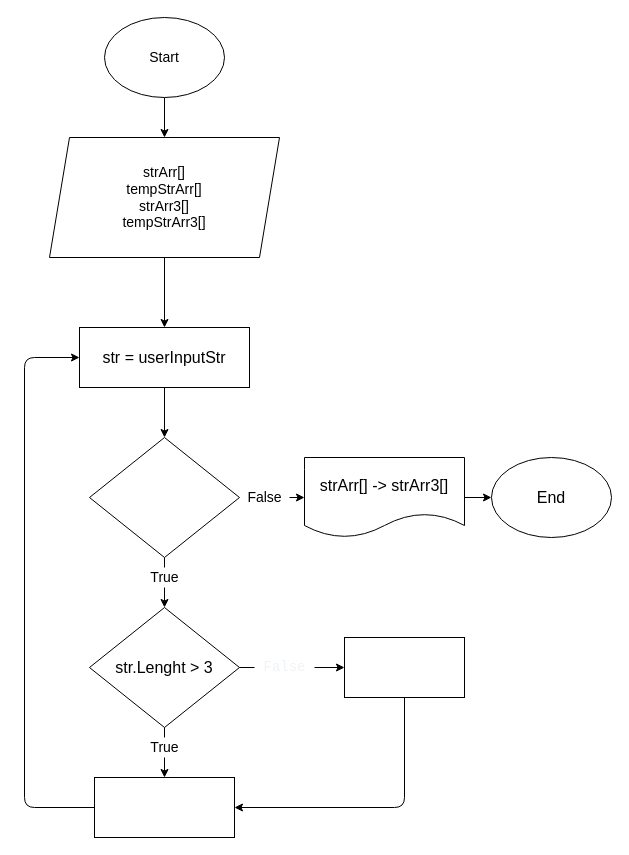
Some shapes in this 629 by 855 pixel diagram are drawn without their labels. The box of each missing label's shape, as (x1, y1, x2, y2) in pixels:
str add to strArr3[]: (344, 636, 464, 698)
str add to strArr[]: (94, 776, 234, 838)
str.Lenght > 0: (88, 436, 240, 558)
